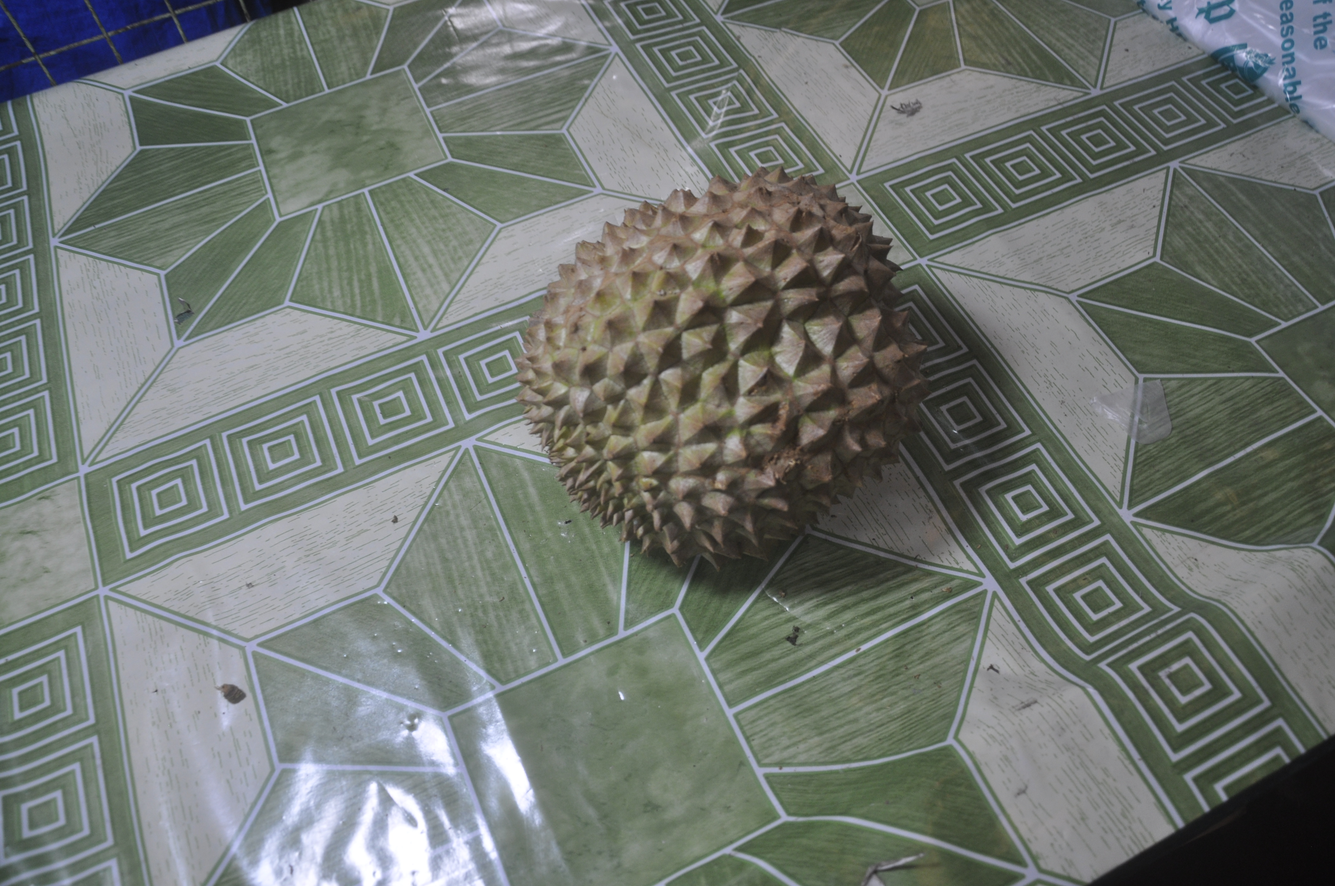mature: (517, 167, 928, 568)
